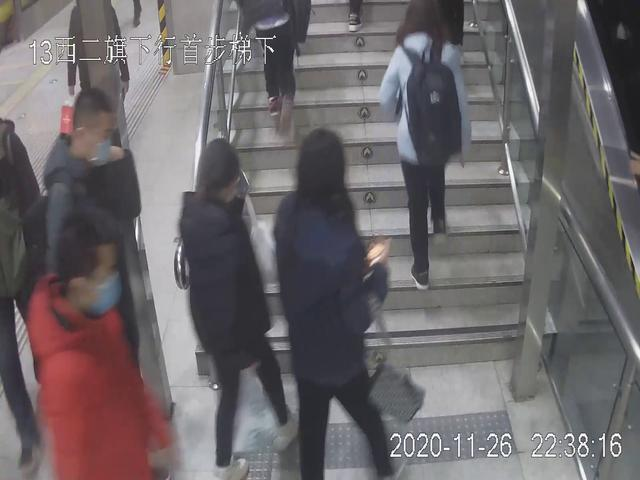person: (270, 127, 423, 480), (175, 133, 299, 477), (26, 210, 179, 479), (37, 88, 150, 408), (378, 1, 472, 293)
